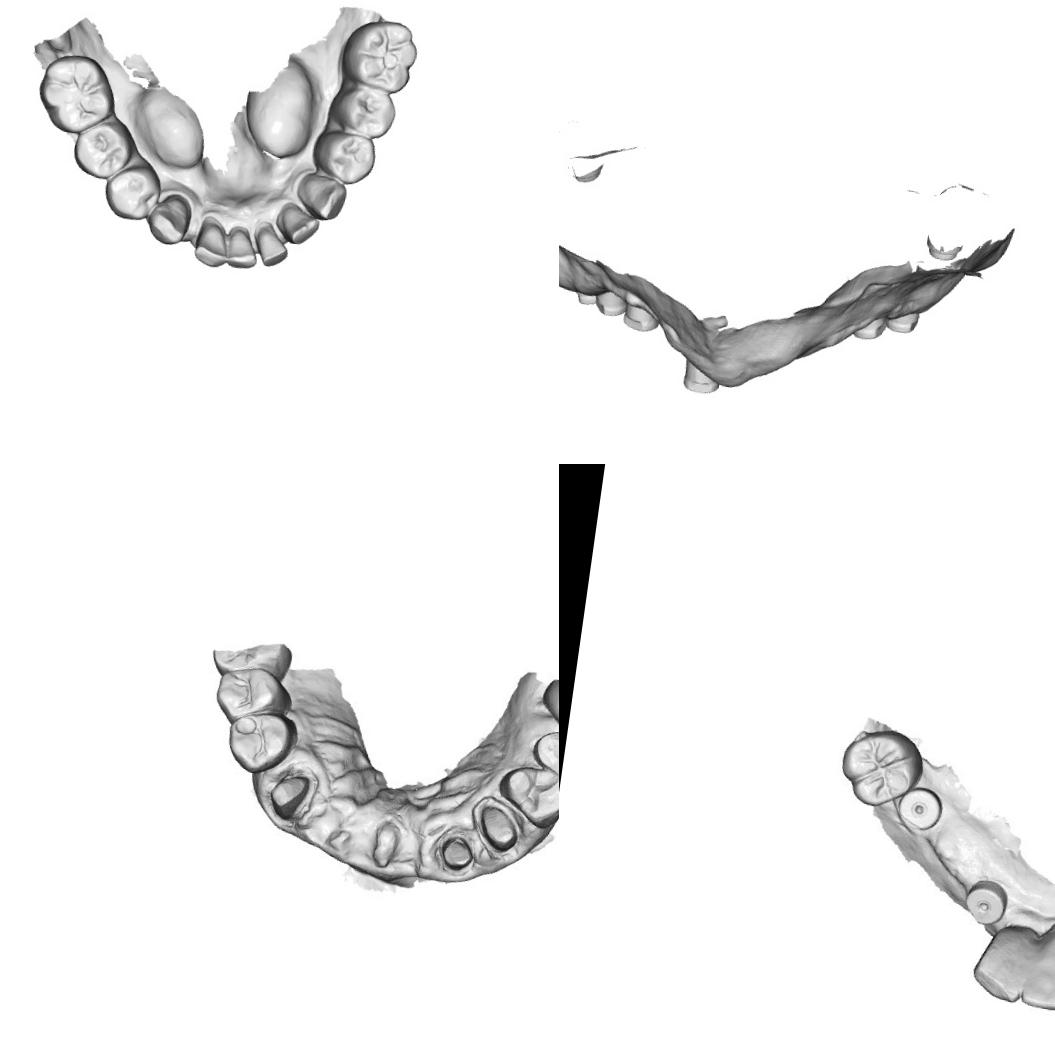canine: (966, 921, 1032, 1005), (142, 188, 195, 248), (294, 171, 350, 224)
crown: (474, 802, 524, 856), (264, 768, 316, 819), (434, 830, 484, 876)
implant: (892, 778, 956, 839), (958, 869, 1012, 930), (620, 299, 662, 335), (681, 362, 722, 398), (850, 314, 888, 344), (593, 292, 629, 321), (886, 308, 920, 336), (576, 289, 600, 307)
incisor: (1016, 921, 1055, 1013), (190, 219, 232, 271), (276, 203, 323, 249), (252, 225, 292, 270), (224, 228, 260, 272)
molar: (31, 48, 123, 141), (336, 14, 424, 97), (836, 722, 920, 806)
premolar: (210, 662, 297, 732), (225, 706, 300, 778), (68, 115, 140, 186), (492, 757, 559, 831), (307, 125, 380, 190), (100, 156, 166, 224), (328, 81, 400, 143), (527, 723, 559, 789)
